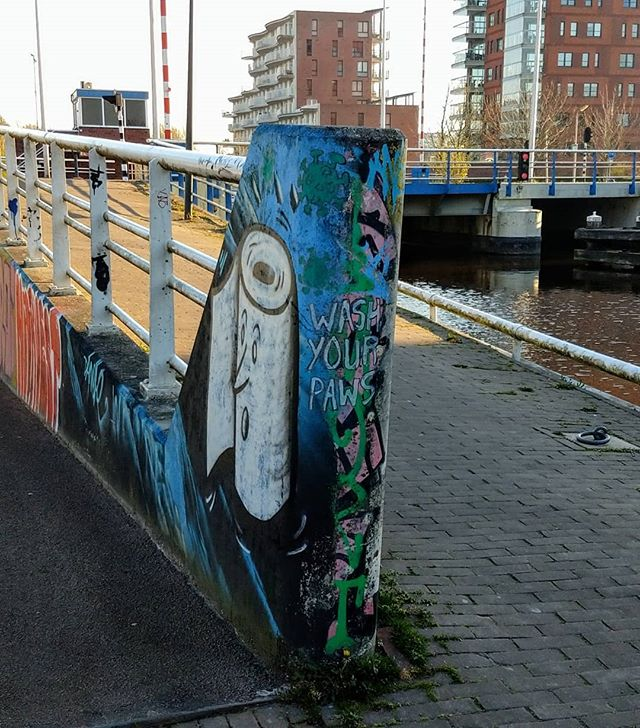bridge: (311, 139, 628, 248)
building: (222, 15, 419, 161), (456, 1, 640, 157)
graffiti: (162, 124, 405, 675)
river: (401, 257, 640, 401)
